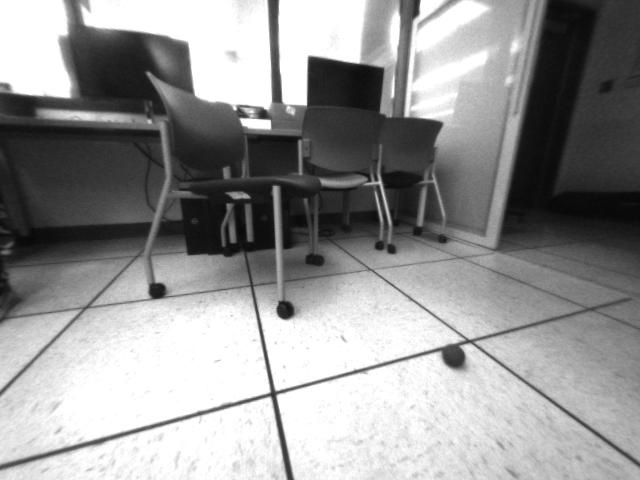dogtoy: (437, 338, 476, 371)
